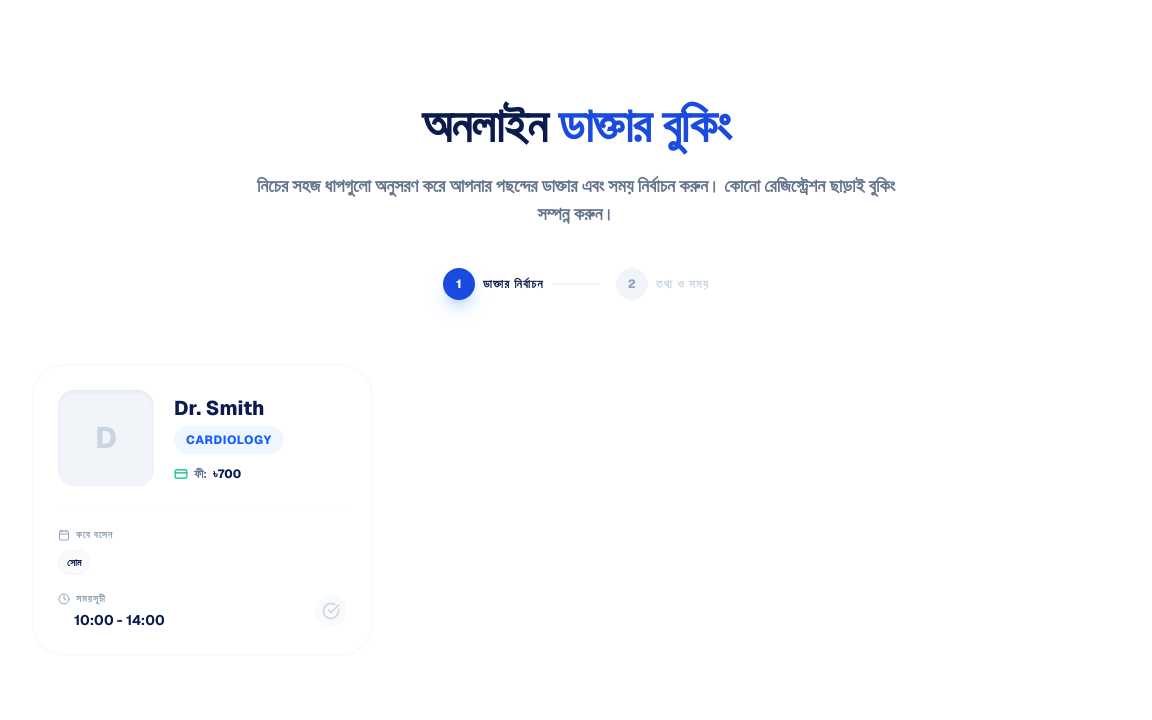
Test: ScheduleSection Component (Contact) › allows clicking on a doctor to select
The image size is (1152, 720).
Expected: the heading "Dr. Smith" is shown, [174, 395, 264, 421]
# Click on doctor card
Click the text "Dr. Smith" at {"x": 203, "y": 510}, box [32, 364, 373, 656]
(page scrolled)
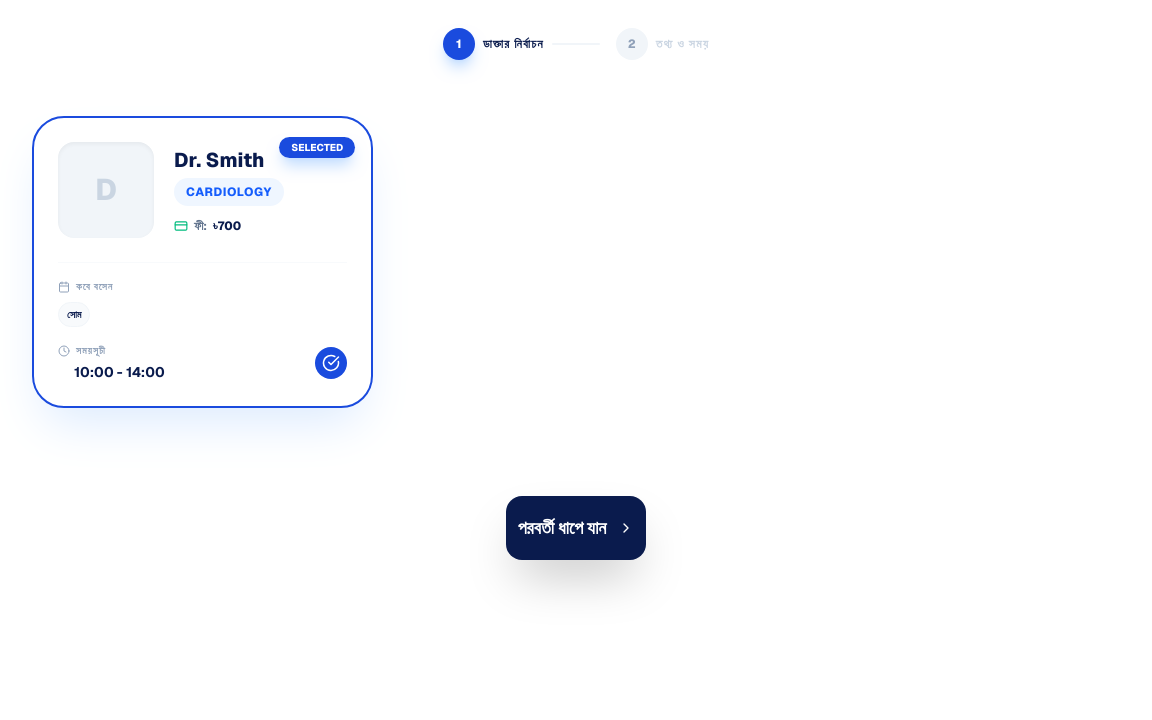
Expected: the button "পরবর্তী ধাপে যান" is enabled
# Move to next step (Step 2)
Click the button "পরবর্তী ধাপে যান" at {"x": 576, "y": 528}, box [506, 496, 646, 560]
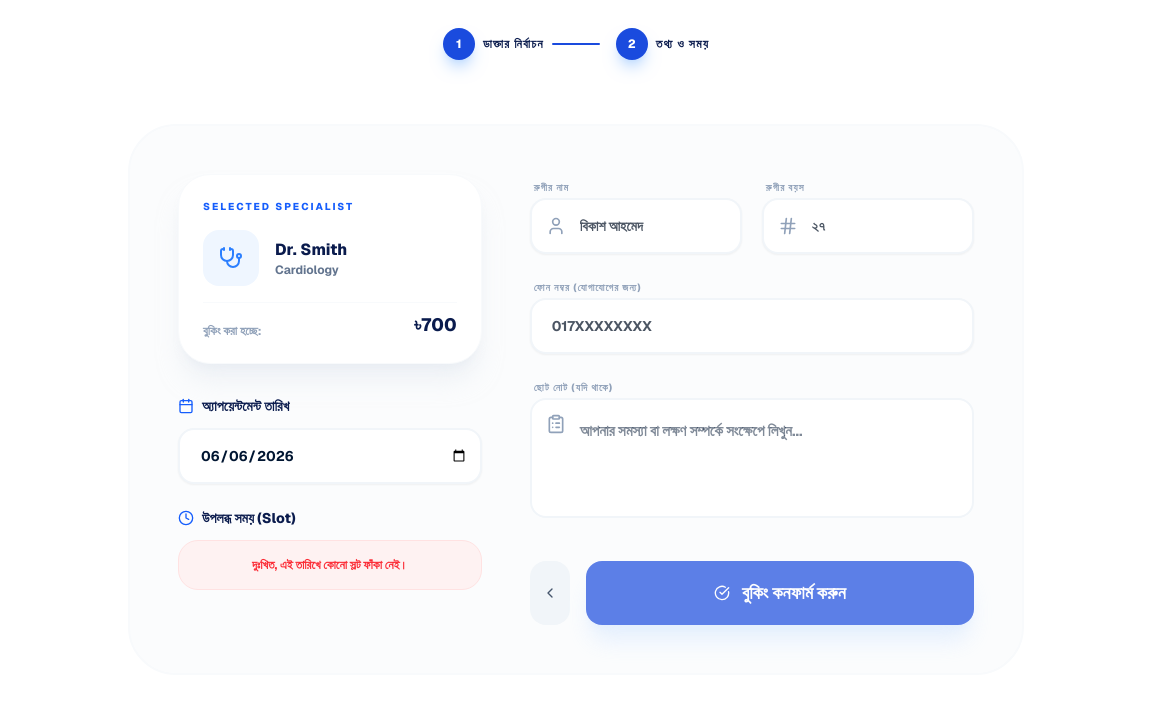
Expected: the text "অ্যাপয়েন্টমেন্ট তারিখ" is shown, [178, 397, 289, 415]
